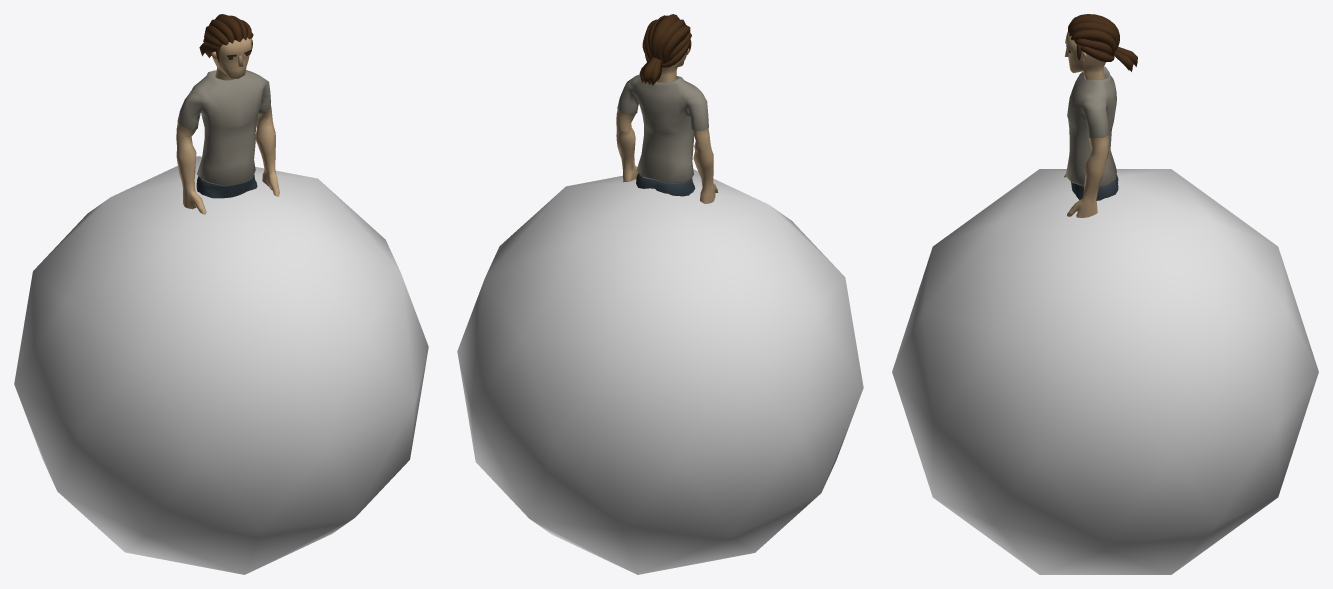
The model's file is adult-man.glb.
The picture shows the model from 3 angles, left to right: view 1: azimuth 30°, elevation 25°; view 2: azimuth 150°, elevation 25°; view 3: azimuth 270°, elevation 25°; orthographic projection. The views are drawn at different scales.
Parts seen in each view (by area): view 1: Icosphere baked, Casual2_Body baked, Casual2_Head baked, Casual2_Legs baked; view 2: Icosphere baked, Casual2_Body baked, Casual2_Head baked, Casual2_Legs baked; view 3: Icosphere baked, Casual2_Body baked, Casual2_Head baked.
Boxes of the visible parts, x1=… form: Icosphere baked: x1=14, y1=156, x2=428, y2=574; Casual2_Body baked: x1=176, y1=70, x2=279, y2=214; Casual2_Head baked: x1=199, y1=14, x2=253, y2=80; Casual2_Legs baked: x1=196, y1=175, x2=257, y2=198; Icosphere baked: x1=457, y1=169, x2=863, y2=574; Casual2_Body baked: x1=616, y1=74, x2=718, y2=203; Casual2_Head baked: x1=639, y1=14, x2=691, y2=85; Casual2_Legs baked: x1=636, y1=173, x2=695, y2=196; Icosphere baked: x1=892, y1=169, x2=1318, y2=574; Casual2_Body baked: x1=1064, y1=66, x2=1116, y2=217; Casual2_Head baked: x1=1064, y1=14, x2=1137, y2=79.
Bounding box in the file's own units: 1.2 × 1.8 × 1.26.
